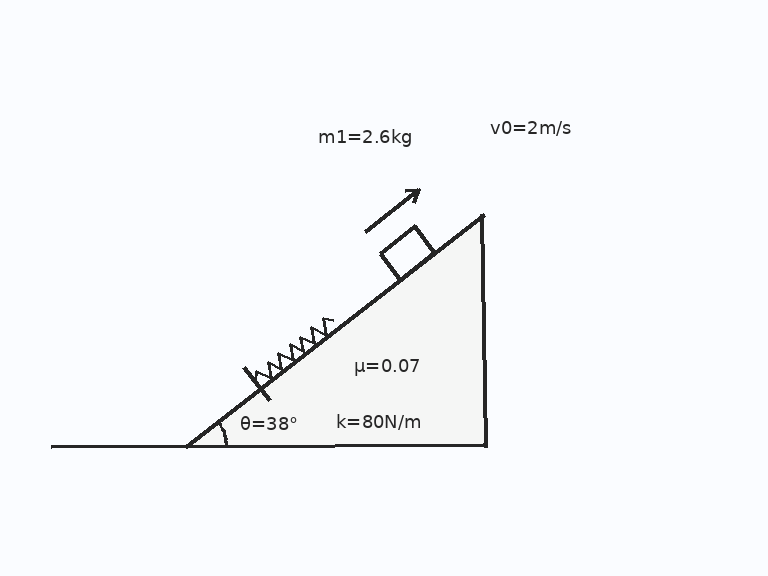block: (378, 224, 437, 281)
ramp: (184, 211, 486, 448)
spring: (253, 317, 334, 383)
